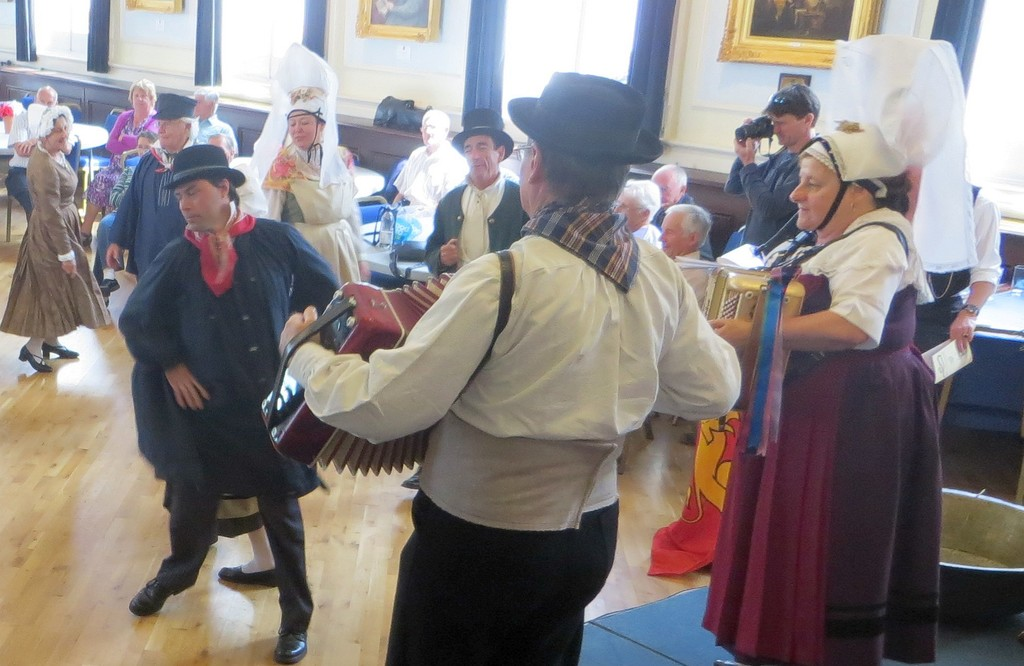Footwear: (127, 578, 195, 615), (274, 628, 308, 665), (218, 565, 276, 583), (17, 345, 53, 373), (42, 344, 77, 359), (401, 466, 417, 490), (99, 279, 120, 293), (82, 232, 93, 248), (104, 298, 109, 307)
